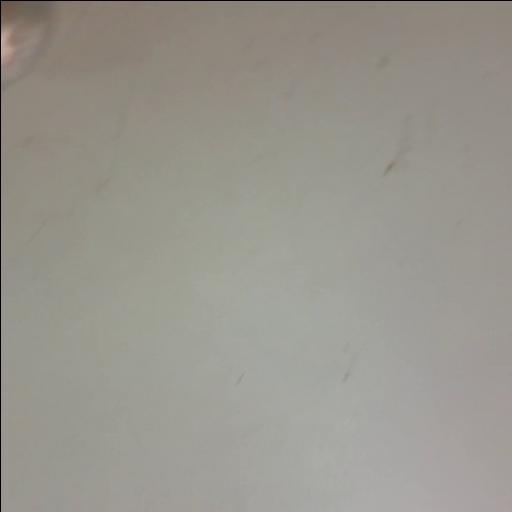alive: (0, 0, 56, 95)
